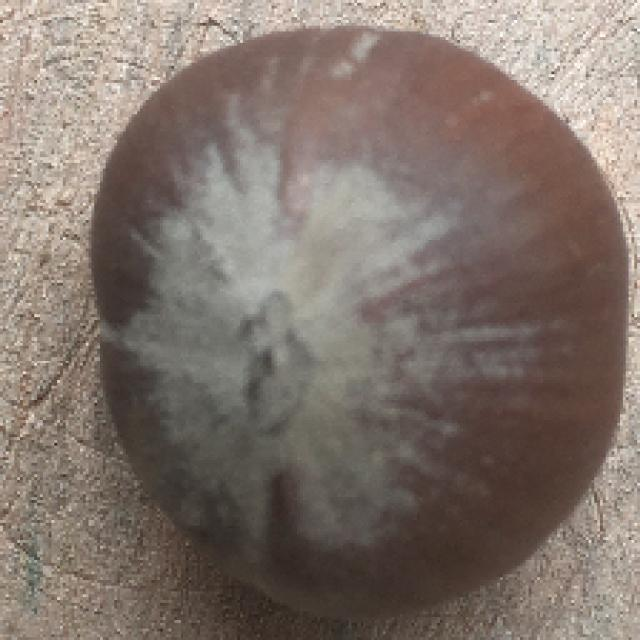DamagedHazelnut: (85, 28, 630, 622)
